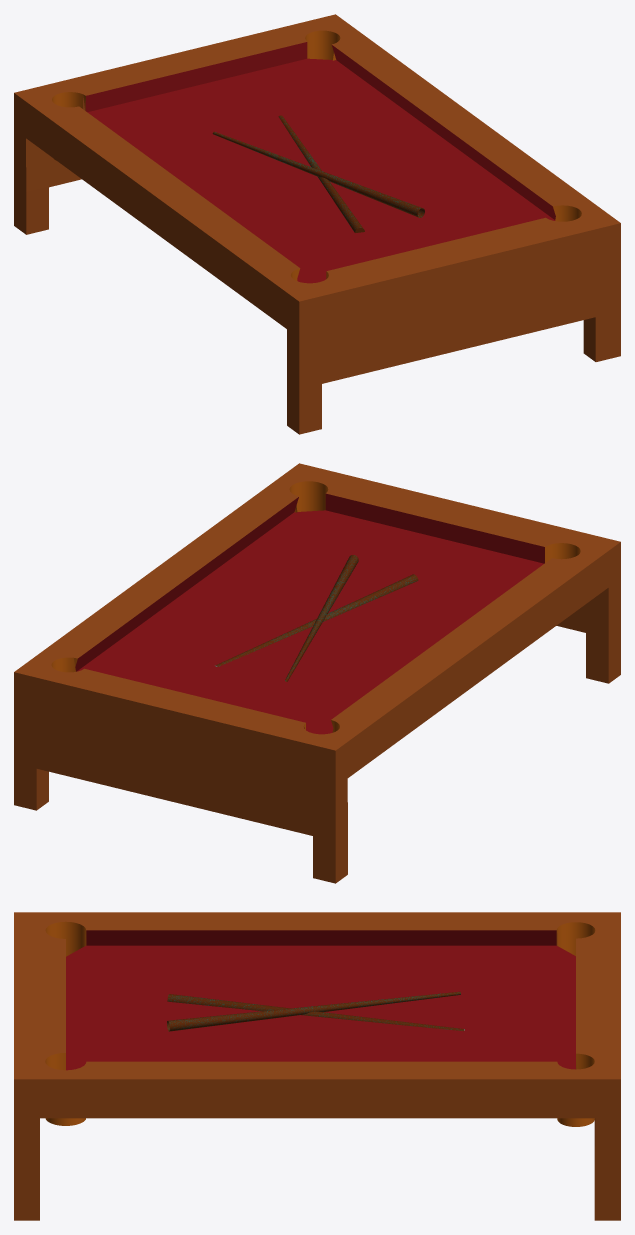
Rendered from CerbonePoolTable.dae.
3 renders of one model, top to bottom at view 1: azimuth 30°, elevation 25°; view 2: azimuth 150°, elevation 25°; view 3: azimuth 270°, elevation 25°, orthographic. The views are drawn at different scales.
Visible parts, largest first — view 1: SketchUp (×5); view 2: SketchUp (×5); view 3: SketchUp (×7).
Boxes of the visible parts, x1=… form: SketchUp (×5): x1=14, y1=14, x2=620, y2=434; SketchUp (×5): x1=14, y1=463, x2=620, y2=883; SketchUp (×7): x1=14, y1=912, x2=620, y2=1220.
Size of the model in its own units: 80.12 by 123 by 31.66.
